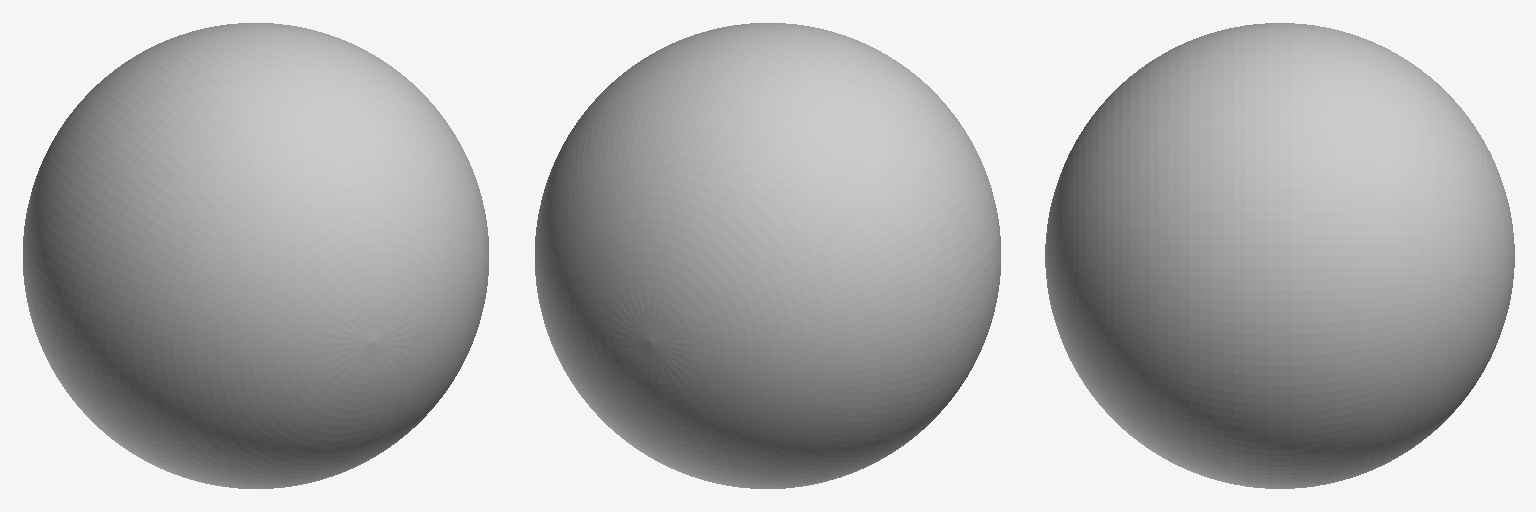
Rendered from earth.obj.
The picture shows the model from 3 angles: view 1: azimuth 30°, elevation 25°; view 2: azimuth 150°, elevation 25°; view 3: azimuth 270°, elevation 25°; orthographic projection.
Visible parts, largest first — view 1: earth; view 2: earth; view 3: earth.
Boxes of the visible parts, x1,y1,x2,y2 form: earth: [23, 23, 488, 488]; earth: [535, 23, 1000, 488]; earth: [1045, 23, 1514, 488].
Size of the model in its own units: 9.7 by 9.7 by 9.8.